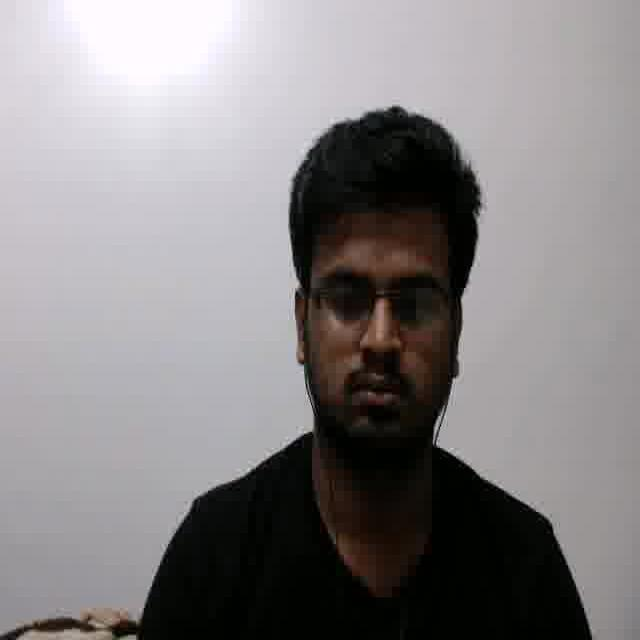Boredom: (308, 215, 448, 449)
